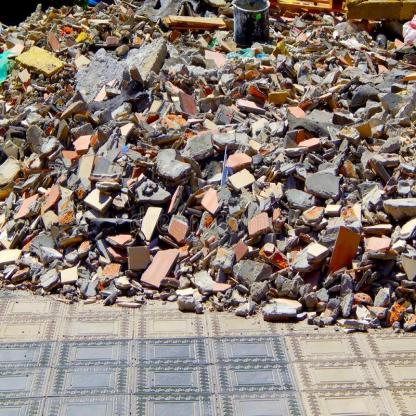brick: (3, 1, 415, 339)
